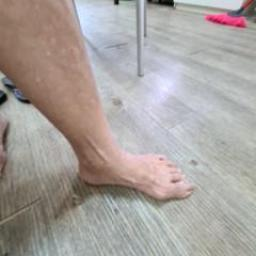Medial View -Left Foot-: (34, 109, 206, 213)
